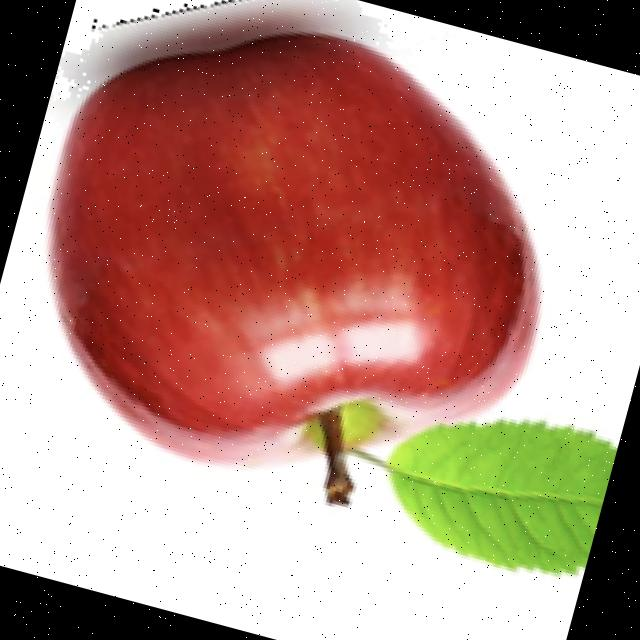apple: (42, 0, 618, 580)
